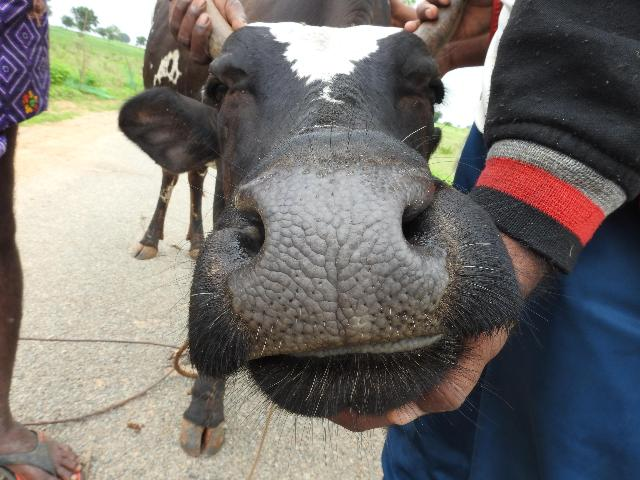Muzzle: (244, 176, 432, 346)
